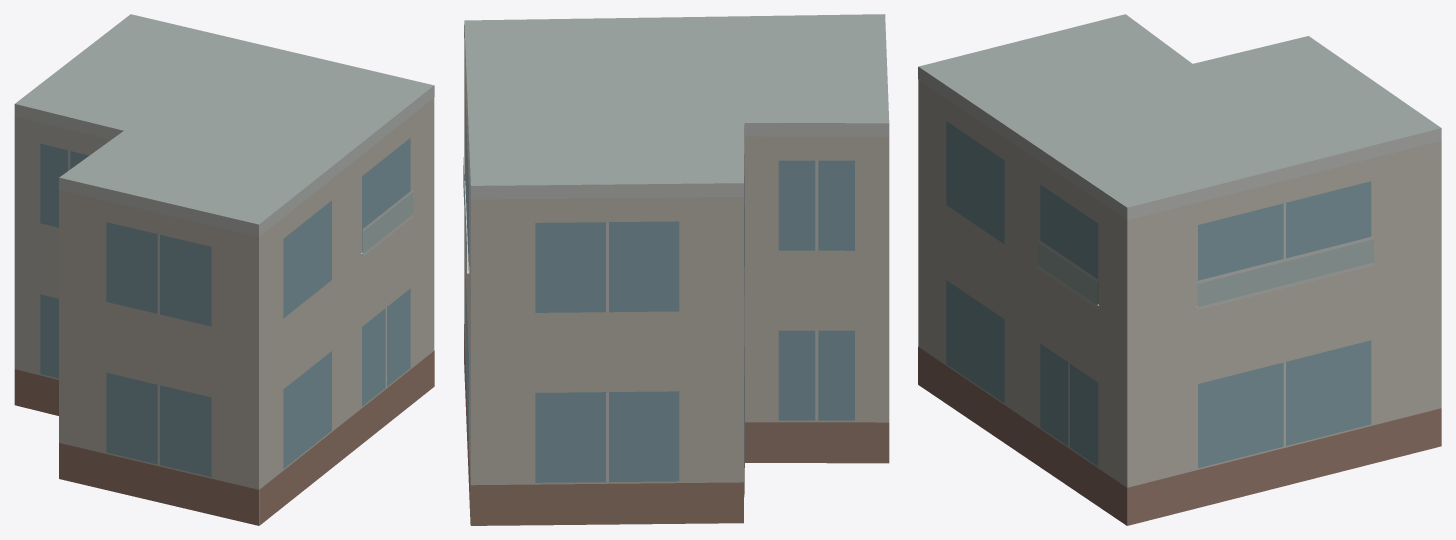
The model's file is survey-upis-32765483.glb.
3 views of the same model, side by side, from view 1: azimuth 30°, elevation 25°; view 2: azimuth 150°, elevation 25°; view 3: azimuth 270°, elevation 25° (orthographic). The views are drawn at different scales.
Visible parts, largest first — view 1: survey-upis-32765483.tmp; view 2: survey-upis-32765483.tmp; view 3: survey-upis-32765483.tmp.
Part boxes in pixels (<box>): survey-upis-32765483.tmp: <box>14,14,434,525</box>; survey-upis-32765483.tmp: <box>463,14,889,525</box>; survey-upis-32765483.tmp: <box>918,14,1441,525</box>.
Bounding box in the file's own units: 7.98 × 6.1 × 9.11.
